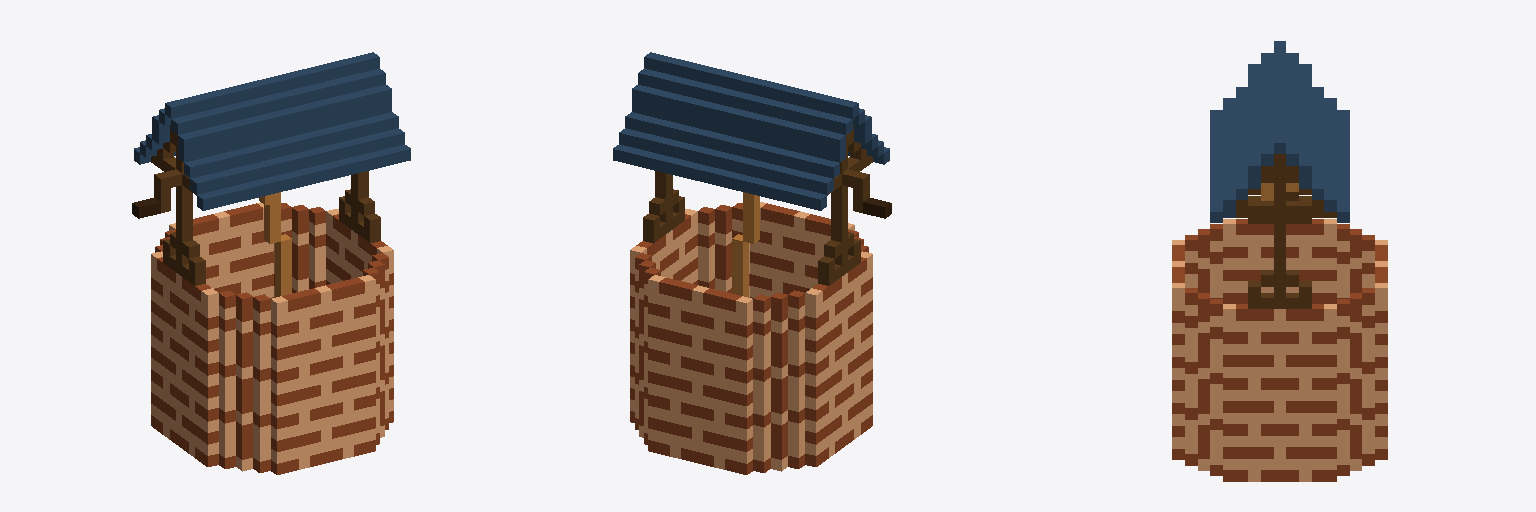
3 renders of one model, left to right at view 1: azimuth 30°, elevation 25°; view 2: azimuth 150°, elevation 25°; view 3: azimuth 270°, elevation 25°, orthographic.
Size of the model in its own units: 22 by 30 by 17.
Materials: 1 (1 with a texture image).